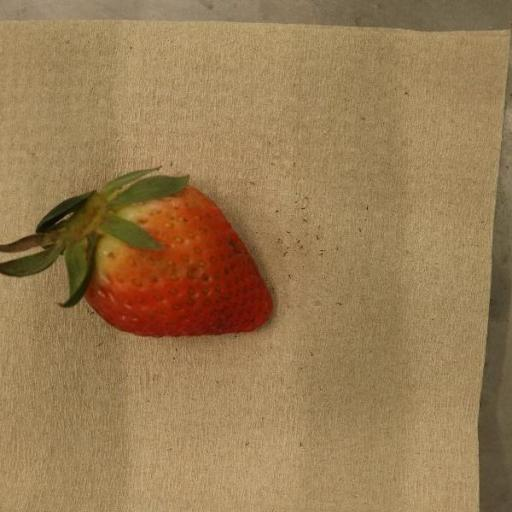Strawberry: (0, 168, 273, 338)
